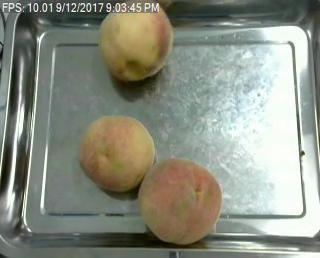Peach: (139, 156, 224, 244), (97, 0, 172, 83), (79, 116, 156, 193)
